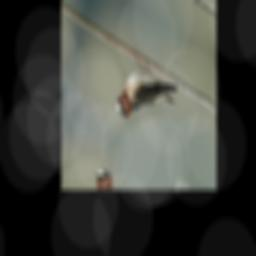Swallow: (111, 48, 181, 148)
